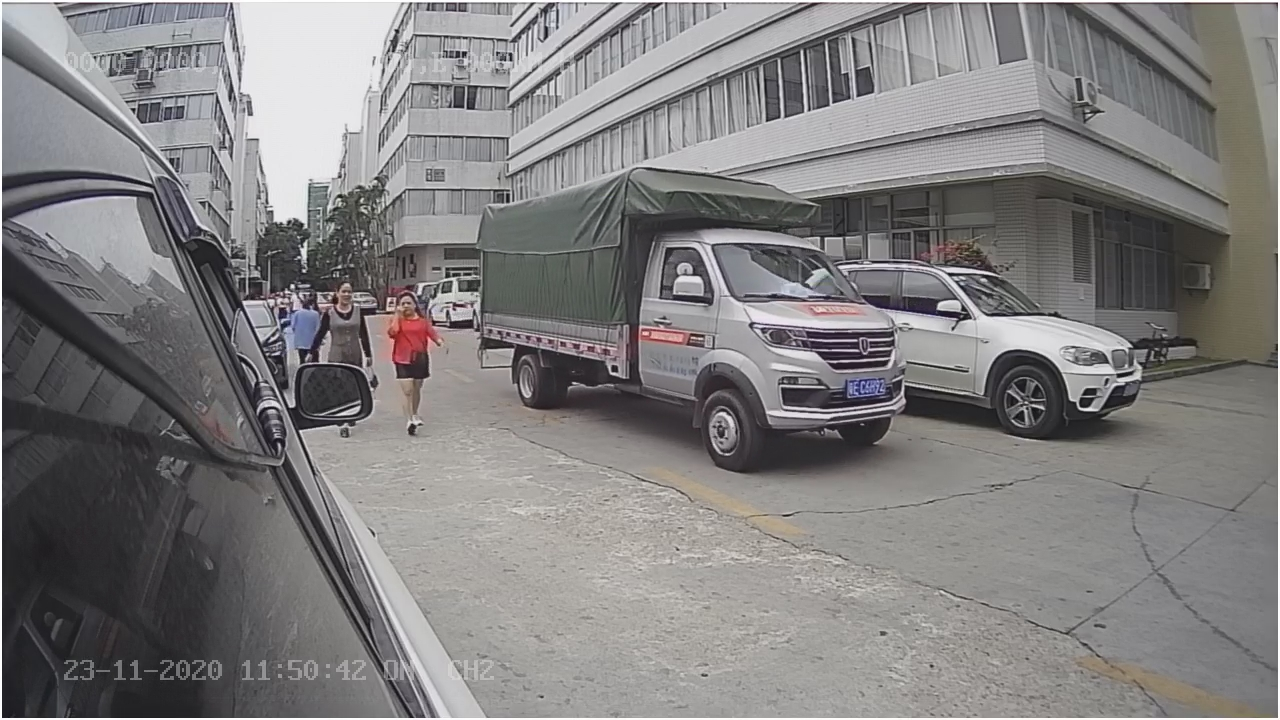person: (389, 279, 451, 435)
